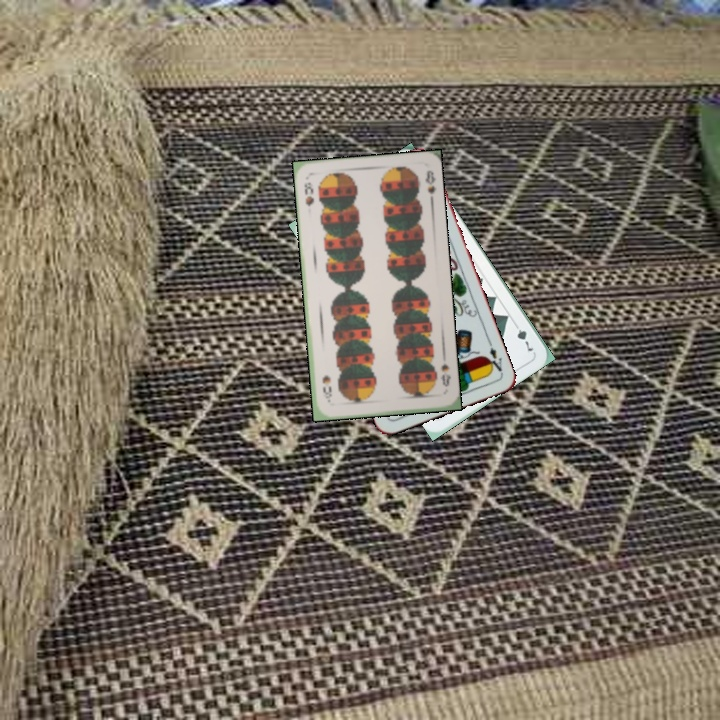EA: (483, 337, 505, 376)
G7: (509, 318, 536, 354)
S8: (300, 178, 317, 209), (436, 359, 453, 389)
